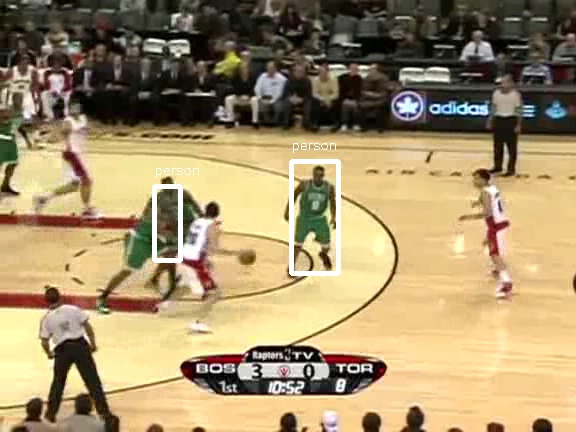person: (298, 172, 332, 253), (297, 172, 331, 253), (299, 172, 333, 253), (298, 171, 332, 252), (298, 173, 332, 254)
target_negative: (327, 53, 470, 425), (36, 78, 124, 299), (17, 306, 385, 343), (242, 362, 263, 387), (346, 410, 515, 411)
